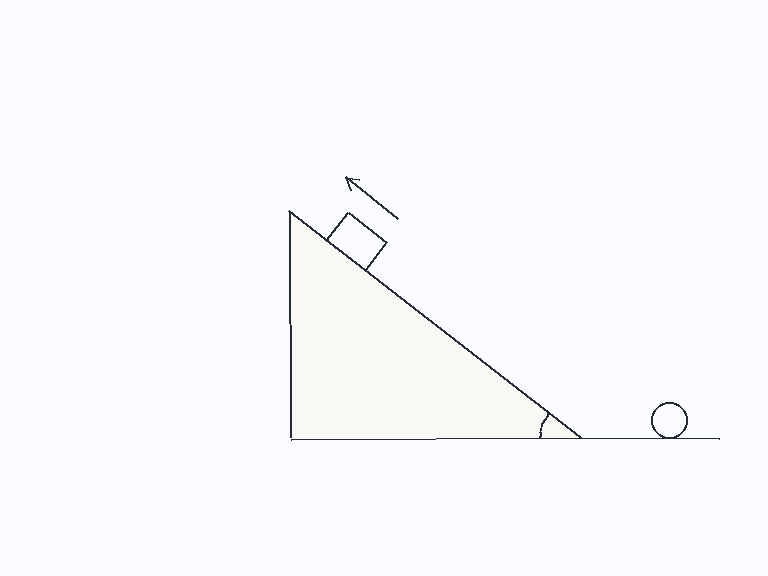ball: (649, 400, 689, 440)
block: (324, 210, 389, 272)
ramp: (288, 209, 582, 440)
